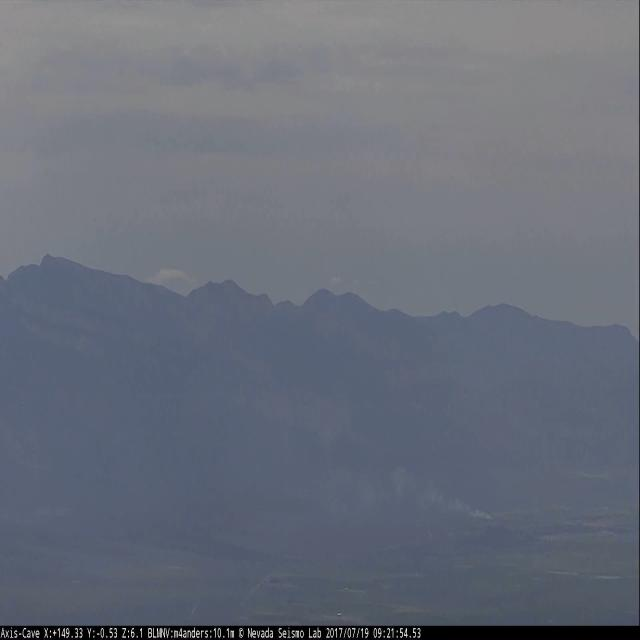smoke: (328, 464, 493, 522)
